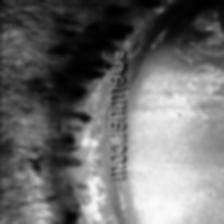Unclassified: (53, 86, 99, 132), (92, 0, 160, 13)
